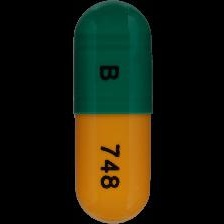60429-166: (0, 0, 224, 224)
